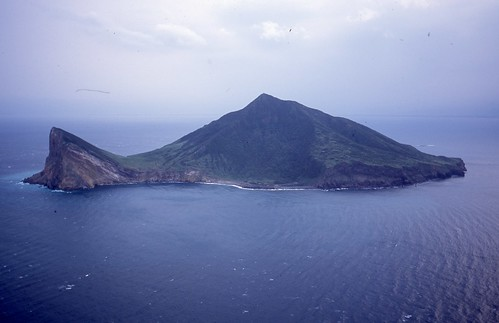turtleIslandLeft: (23, 89, 480, 196)
